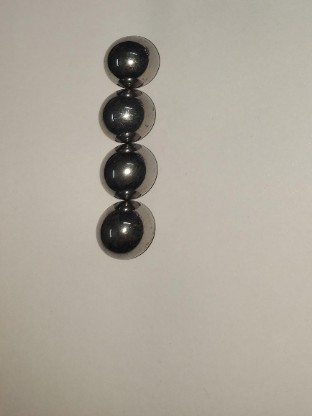ironball: (93, 194, 163, 259), (99, 31, 169, 89), (97, 88, 164, 141), (93, 143, 160, 196)
